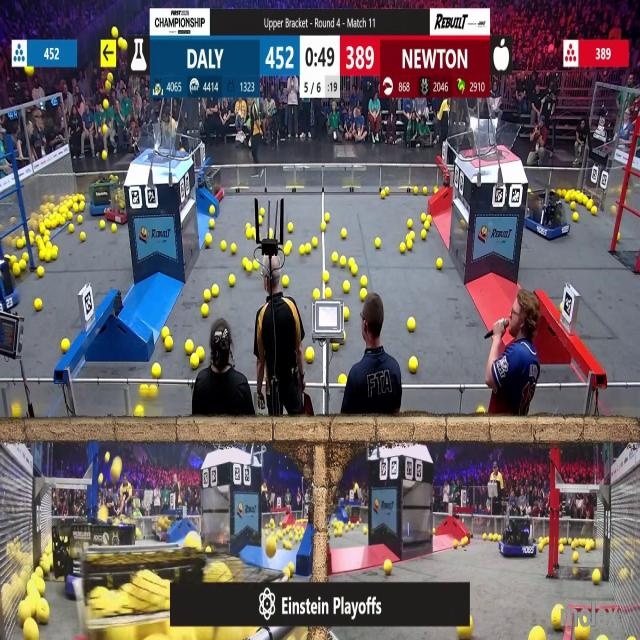ball_airborne: (112, 458, 122, 478), (99, 507, 108, 523), (116, 39, 125, 50), (110, 28, 118, 39), (26, 67, 34, 76), (104, 100, 110, 110), (102, 126, 108, 136), (100, 151, 106, 160), (105, 80, 111, 89), (99, 473, 104, 483), (104, 453, 110, 461), (107, 73, 112, 82), (172, 120, 177, 128)
ball_ground: (552, 608, 564, 632), (36, 602, 48, 623), (26, 621, 38, 640), (574, 627, 587, 640), (530, 628, 544, 639), (267, 540, 277, 555), (409, 356, 418, 372), (186, 534, 196, 547), (384, 560, 392, 576), (306, 348, 315, 362), (11, 406, 20, 420), (152, 362, 160, 377), (593, 569, 601, 584), (37, 582, 45, 597), (185, 341, 193, 355), (190, 354, 198, 368), (202, 305, 210, 318), (62, 340, 70, 353), (204, 290, 212, 302), (148, 386, 156, 398), (409, 318, 416, 331), (35, 299, 42, 312), (136, 407, 144, 418), (360, 276, 367, 288), (166, 339, 173, 351), (228, 276, 235, 288), (198, 348, 205, 360), (45, 249, 52, 261), (12, 266, 19, 278), (350, 267, 358, 277), (324, 288, 332, 298), (288, 562, 294, 575), (212, 285, 219, 296), (344, 309, 350, 321), (360, 288, 366, 300), (344, 281, 350, 293), (341, 255, 347, 267), (436, 260, 442, 272), (51, 248, 57, 260), (252, 263, 260, 272), (206, 235, 212, 247), (163, 327, 170, 337), (340, 375, 347, 385), (37, 268, 44, 278), (243, 229, 250, 239), (349, 256, 356, 266), (283, 276, 289, 287), (322, 272, 328, 283), (314, 288, 320, 299), (269, 230, 275, 241), (572, 552, 578, 563), (461, 536, 468, 545), (284, 246, 290, 256), (232, 244, 238, 254), (572, 212, 578, 222), (342, 228, 348, 238), (68, 222, 74, 232), (408, 241, 414, 251), (399, 244, 405, 254), (220, 242, 226, 252), (243, 256, 249, 266), (306, 244, 312, 254), (246, 264, 252, 274), (18, 262, 24, 272), (39, 250, 45, 260), (587, 200, 593, 210), (331, 343, 338, 351), (331, 253, 337, 262), (408, 219, 414, 228), (421, 214, 427, 223), (76, 214, 82, 223), (79, 203, 85, 212), (572, 567, 578, 576), (376, 238, 381, 248), (299, 245, 304, 255), (313, 238, 318, 248), (327, 213, 332, 223), (136, 529, 141, 539), (478, 408, 485, 415), (100, 220, 106, 228), (209, 207, 215, 215), (592, 207, 598, 215), (452, 539, 458, 547), (409, 233, 415, 241), (23, 252, 29, 260), (413, 186, 419, 194), (257, 216, 262, 225), (286, 540, 291, 549), (206, 545, 212, 552), (362, 527, 368, 534), (80, 233, 84, 243), (421, 232, 426, 240), (288, 222, 292, 232), (559, 544, 564, 552), (259, 208, 264, 216), (424, 222, 429, 230), (381, 190, 386, 198), (570, 202, 575, 210), (68, 212, 73, 220), (210, 219, 214, 228), (423, 187, 428, 194), (432, 186, 437, 193), (112, 223, 116, 231), (321, 222, 325, 230), (538, 542, 542, 550), (618, 235, 622, 242), (484, 533, 488, 540), (544, 537, 548, 544), (600, 636, 606, 640), (489, 534, 493, 540), (432, 528, 435, 534)
goal: (464, 121, 521, 160), (128, 128, 186, 160)
robot_blue: (50, 522, 121, 598), (524, 189, 569, 241), (501, 517, 539, 557), (90, 173, 122, 216), (0, 253, 22, 311), (196, 170, 225, 205)
robot_red: (341, 507, 363, 524)
